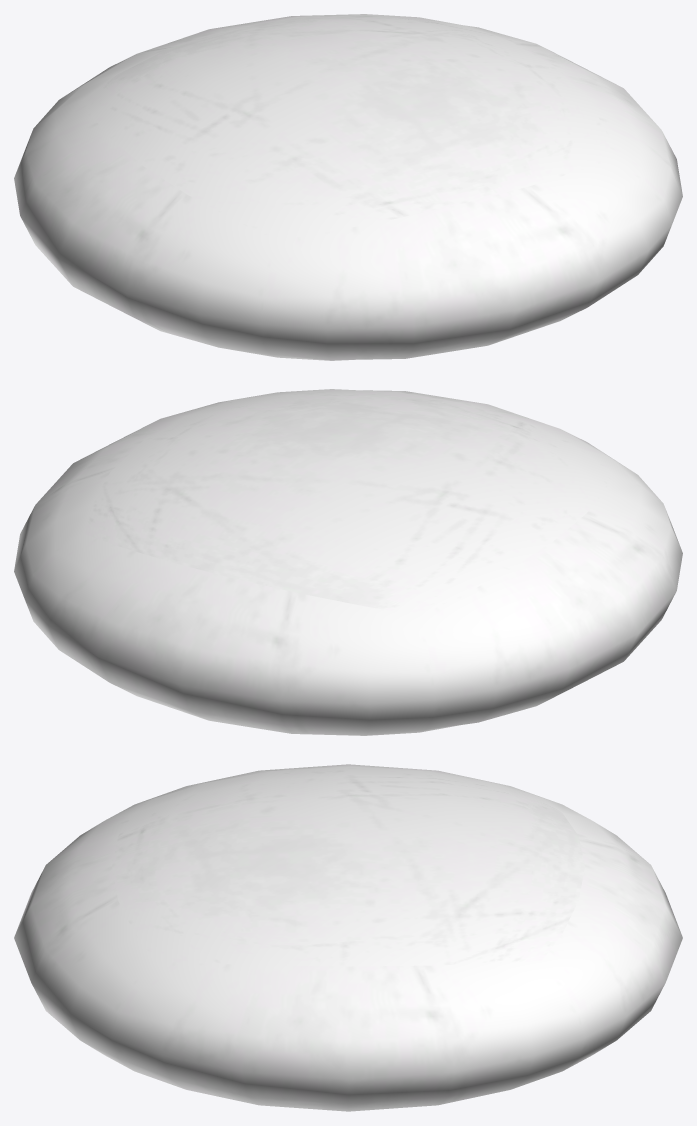
Rendered from goo.obj.
3 views of the same model, one above another, from view 1: azimuth 30°, elevation 25°; view 2: azimuth 150°, elevation 25°; view 3: azimuth 270°, elevation 25° (orthographic).
Parts seen in each view (by area): view 1: Goo1; view 2: Goo1; view 3: Goo1.
Part boxes in pixels (box(x1,y1,x2,y2)): Goo1: box(14, 14, 682, 360); Goo1: box(14, 389, 682, 735); Goo1: box(14, 764, 682, 1111).
Bounding box in the file's own units: 3 × 1 × 3.
1 material, 1 textured.
